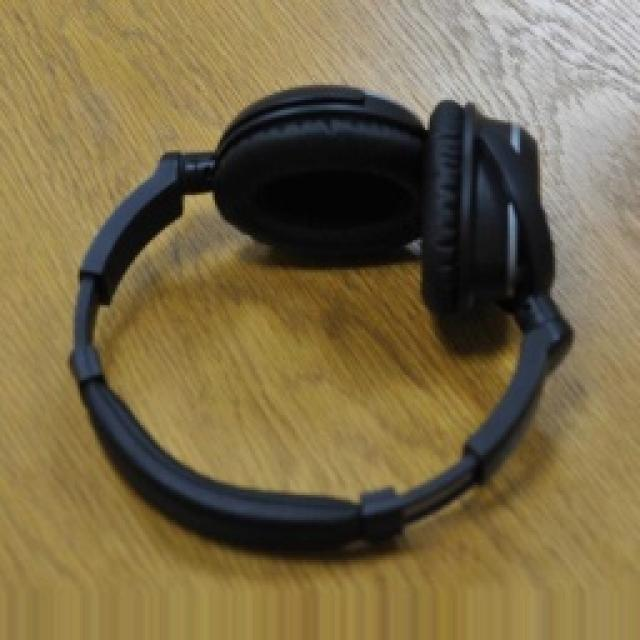headphones: (68, 80, 572, 552)
